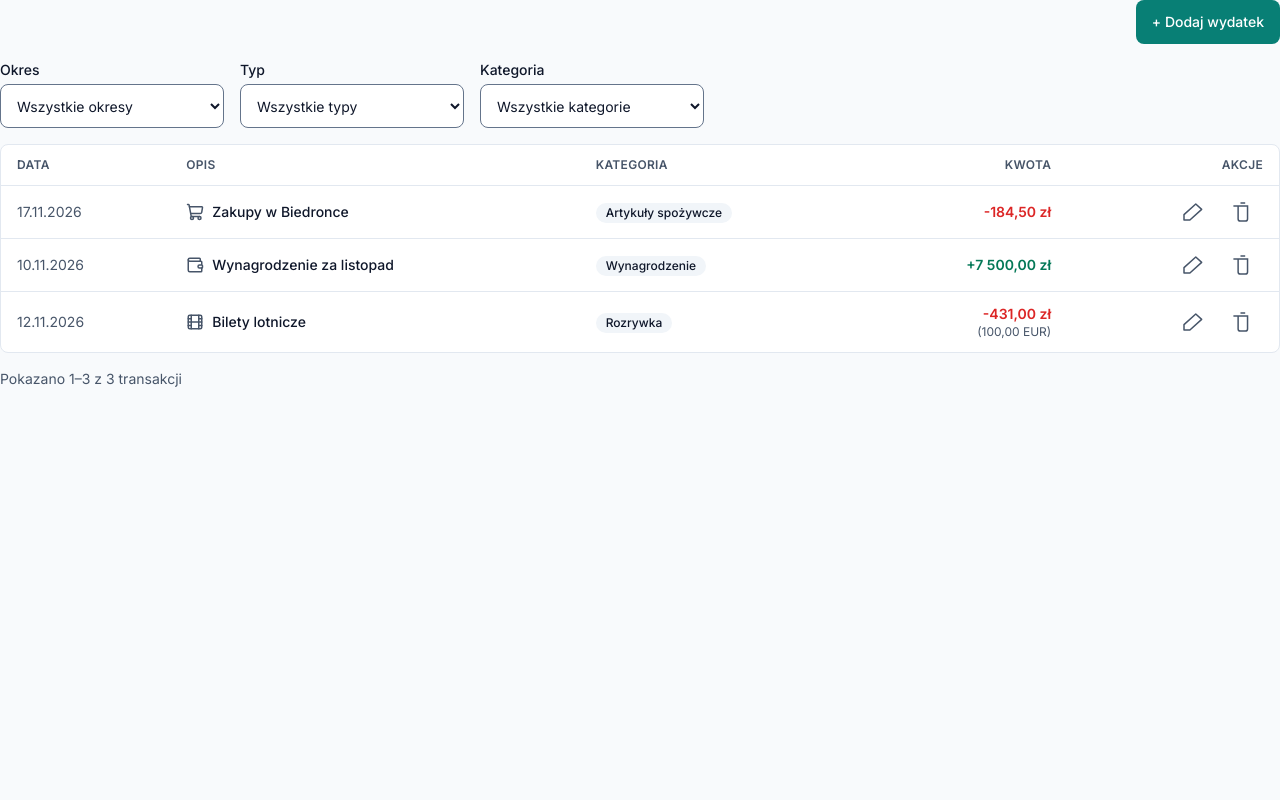
Scenario: TransactionsView › editing a transaction › keeps the dialog open with the data and shows the detail of a 404 answer
This screenshot has width=1280, height=800.
Click the button named "Edytuj transakcję: Zakupy w Biedronce, 17.11.2026". click: (1193, 212)
box: [1171,190,1215,234]
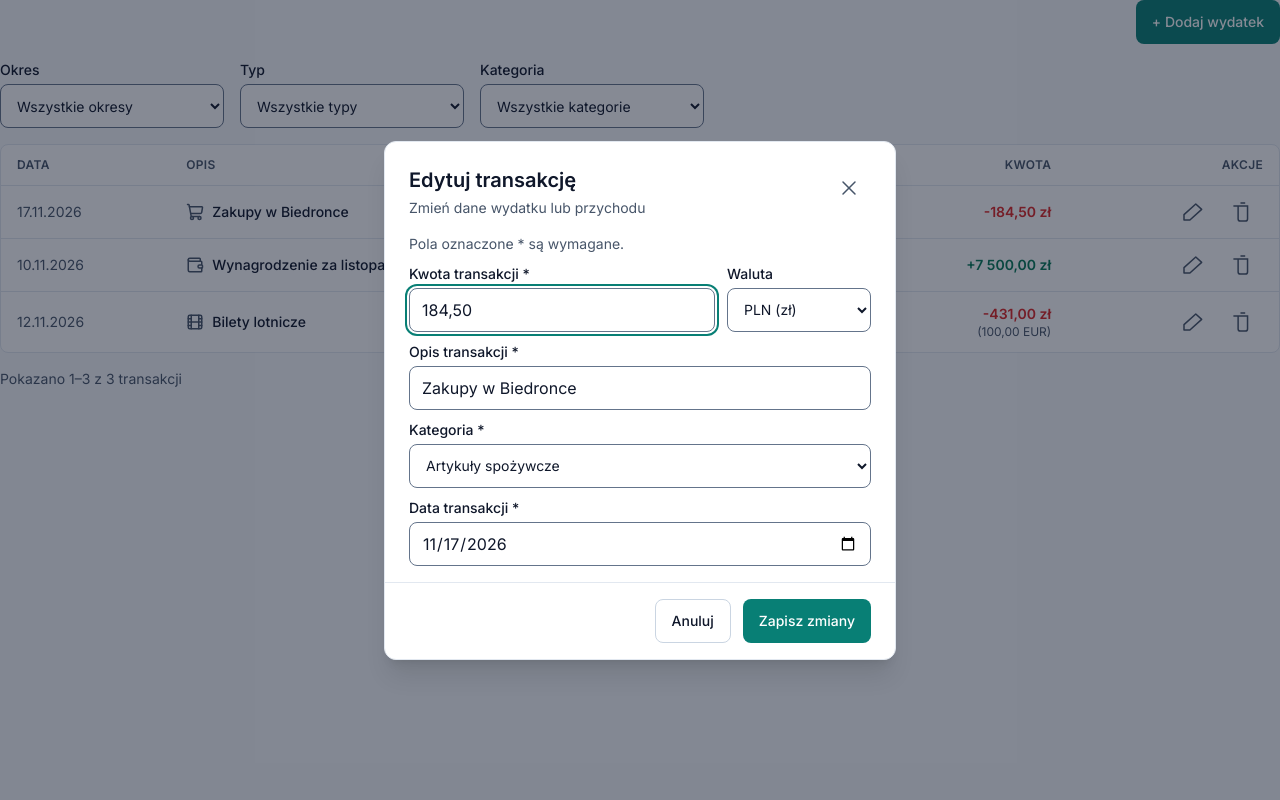
Click the button "Zapisz zmiany". click: (807, 620)
box: [743,598,871,642]
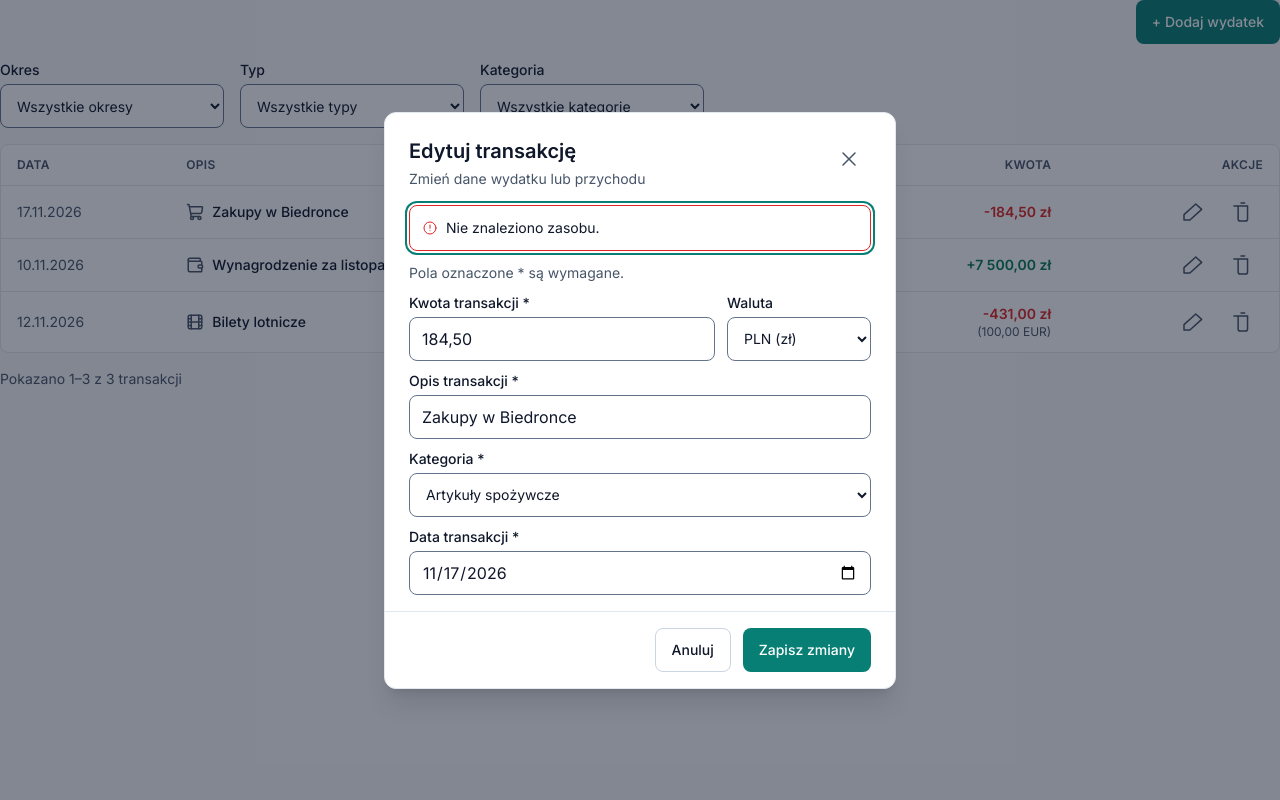
Now the message reads "Nie znaleziono zasobu.", box [446,218,600,236]
